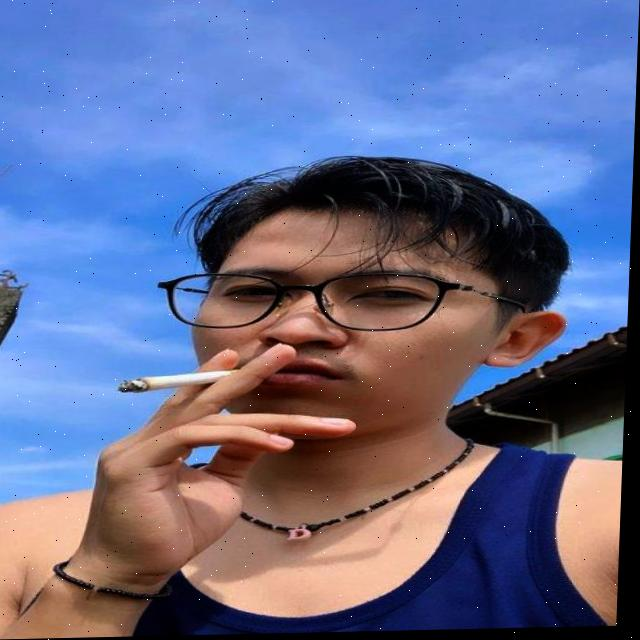cigarette: (120, 375, 235, 391)
